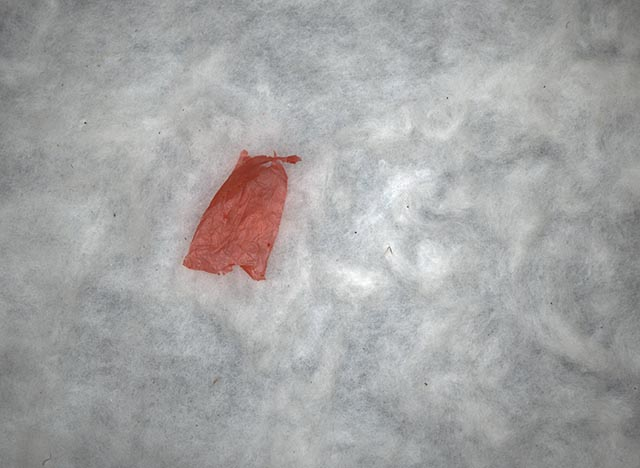plastic film: (182, 149, 302, 283)
